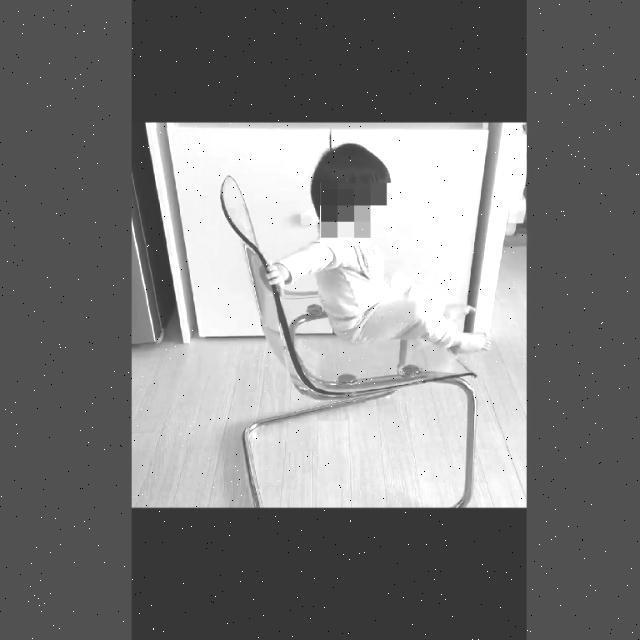child: (262, 141, 494, 374)
